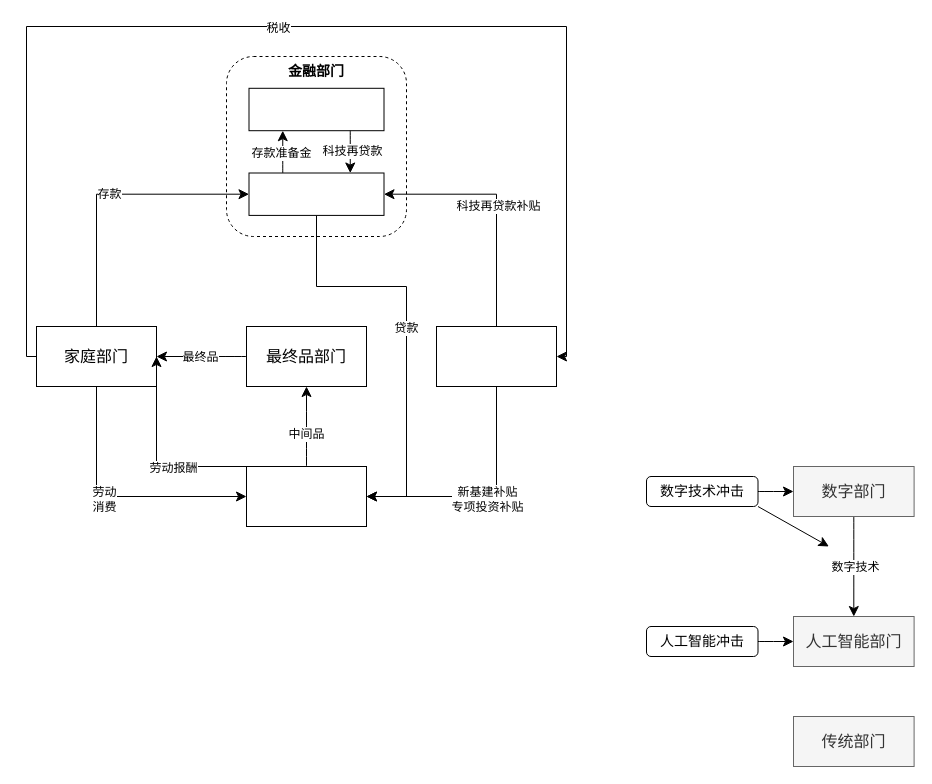
Image size: 932x784. Some labels were removed from this diagram. The shapes that lost their labels are listed below. From the top down, each one's centre as x and y in pixels, then its label:
At (316,109): "中央银行".
At (316,193): "商业银行".
At (496,356): "政府部门".
At (306,496): "中间品部门".
